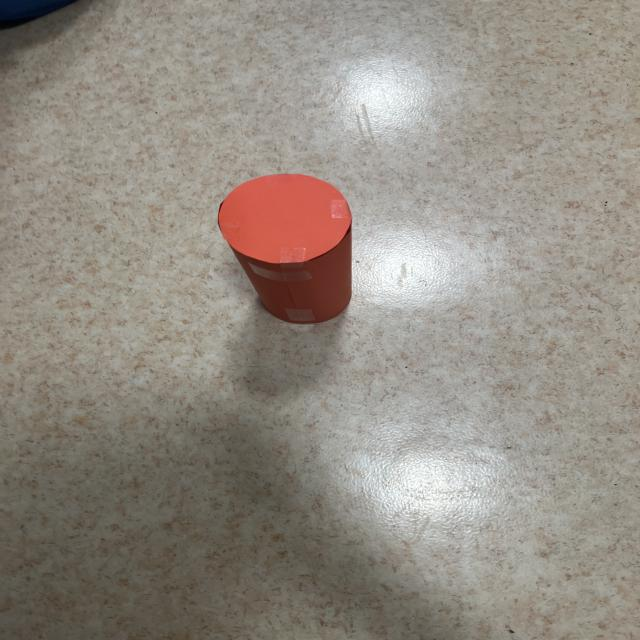przeszkoda: (218, 174, 352, 324)
